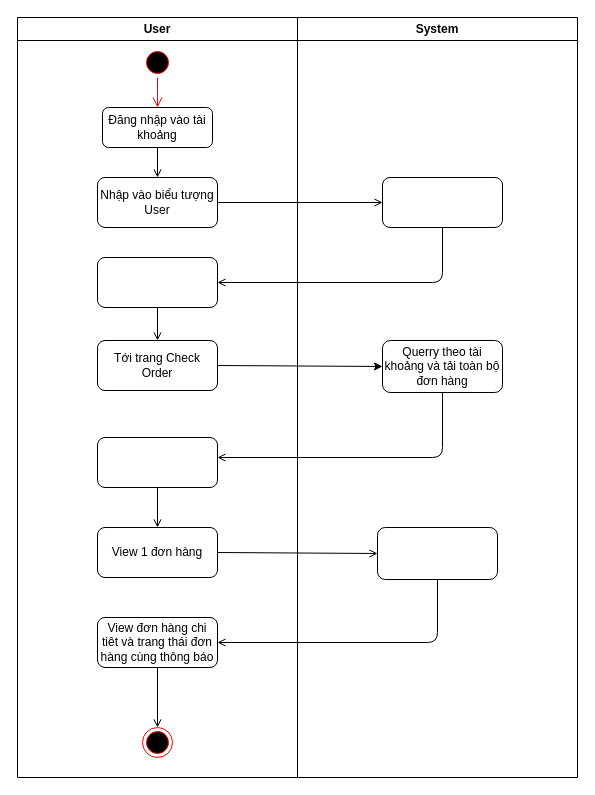
This 595x795 diagram has some shape labels left out. The shapes that lost their labels are listed below. From the top down, each one's box as (x1, y1, x2, y2) in pixels, then its label:
(382, 176, 502, 228): Kiểm tra tài khoảng
(96, 256, 218, 308): Trả về view thông tin User
(96, 436, 218, 488): Trả danh sách đơn hàng mà tài khoảng thực hiện
(376, 526, 498, 580): Querry đơn hàng và trả về đơn hàng chi tiết
